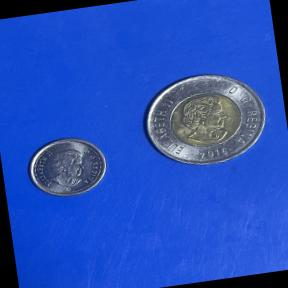Canada-10cent-B: (16, 127, 117, 209)
Canada-2Dollar-B: (132, 60, 282, 182)
